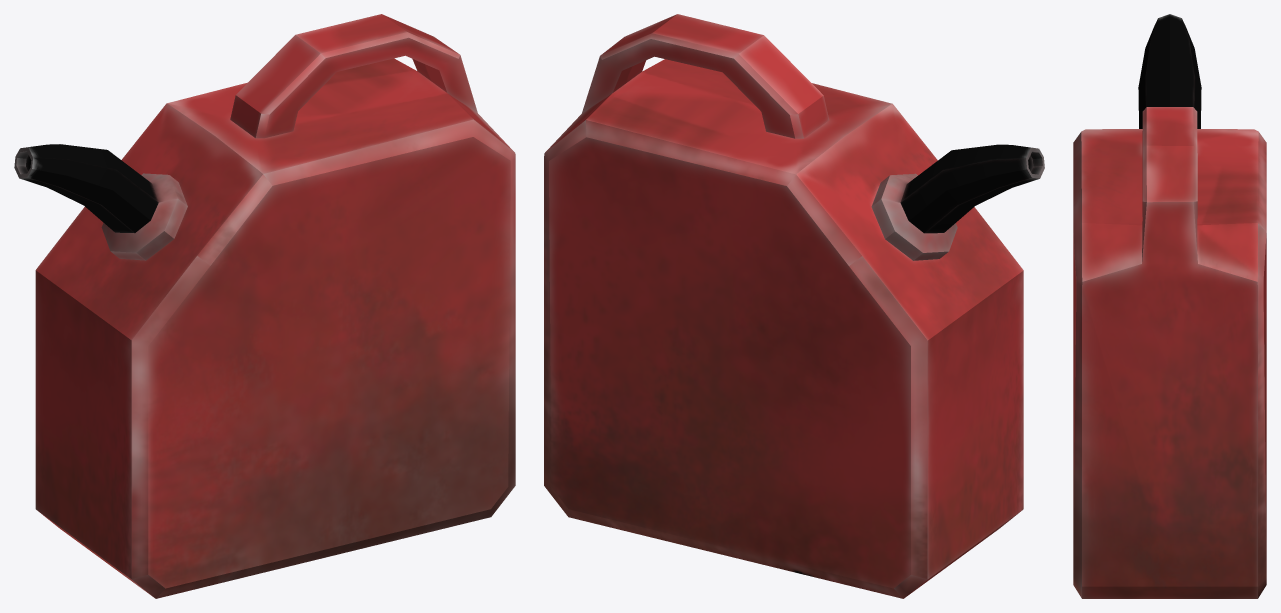
File: Canister .fbx
3 renders of one model, left to right at view 1: azimuth 30°, elevation 25°; view 2: azimuth 150°, elevation 25°; view 3: azimuth 270°, elevation 25°, orthographic. The views are drawn at different scales.
Visible parts, largest first — view 1: Cube; view 2: Cube; view 3: Cube.
Part boxes in pixels (bbox=[...]): Cube: bbox=[14, 14, 515, 598]; Cube: bbox=[544, 14, 1044, 598]; Cube: bbox=[1073, 14, 1266, 598].
Size of the model in its own units: 0.1673 by 0.1679 by 0.0681.
Materials: 1 (1 with a texture image).
